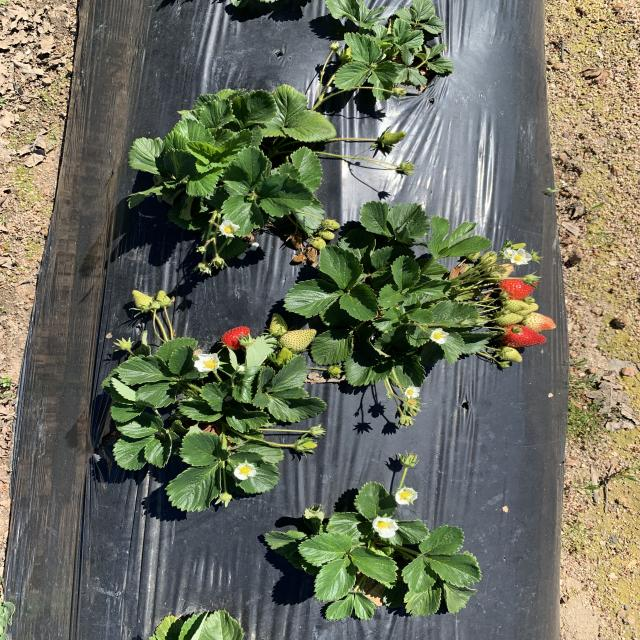unripe: (498, 324, 548, 348), (496, 273, 540, 300), (218, 326, 251, 352)
